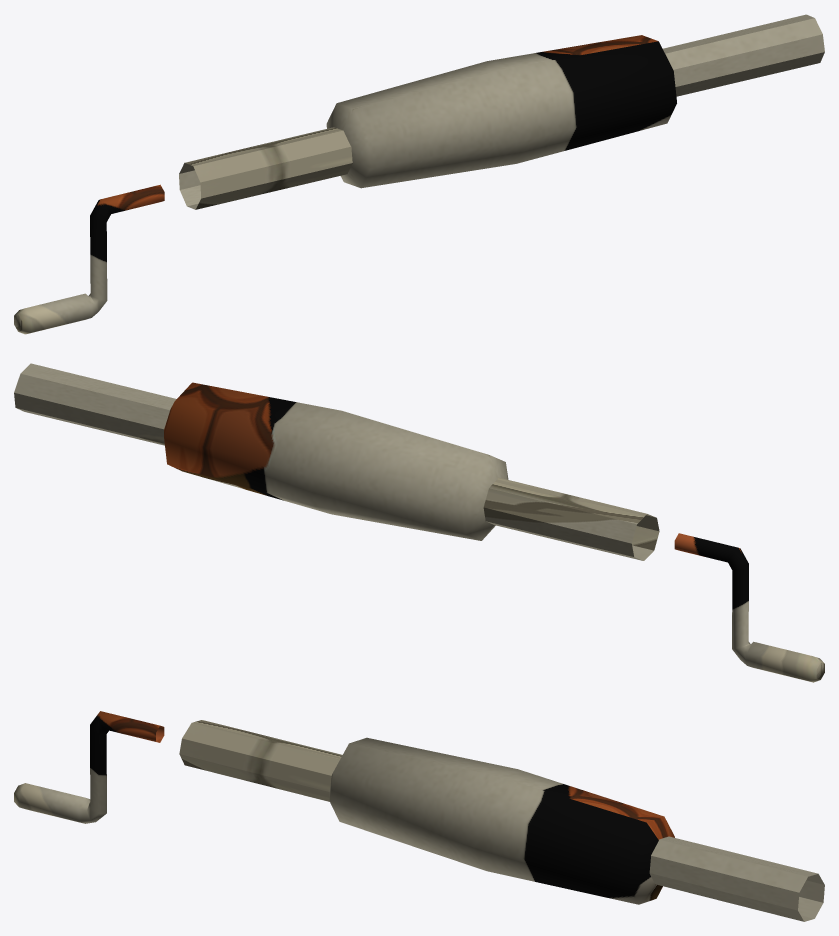
Rendered from Well_pulley.FBX.
3 views of the same model, one above another, from view 1: azimuth 30°, elevation 25°; view 2: azimuth 150°, elevation 25°; view 3: azimuth 330°, elevation 25° (orthographic).
Parts seen in each view (by area): view 1: Well_pulley; view 2: Well_pulley; view 3: Well_pulley.
Part boxes in pixels (<box>): Well_pulley: <box>14,14,824,334</box>; Well_pulley: <box>14,363,824,682</box>; Well_pulley: <box>14,711,824,921</box>.
Bounding box in the file's own units: 2.39 × 0.4376 × 0.2821.
